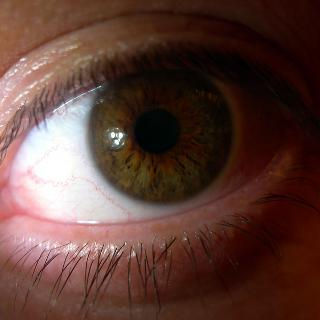pupil: (134, 109, 178, 153)
